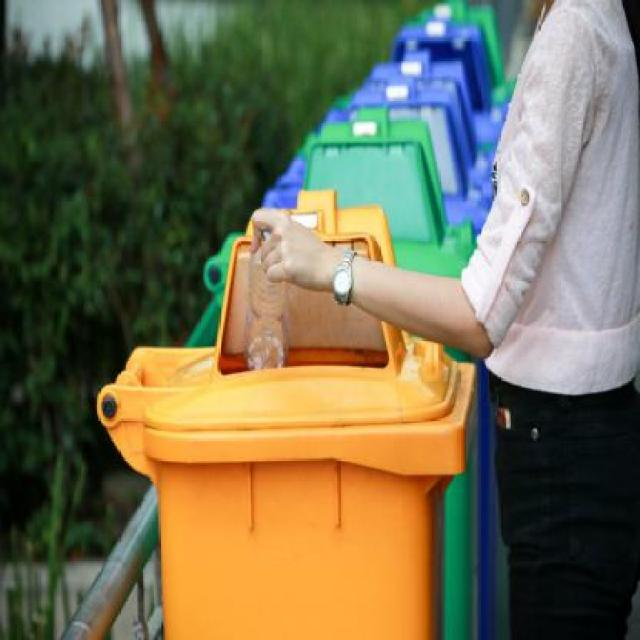garbage container: (93, 313, 489, 639)
